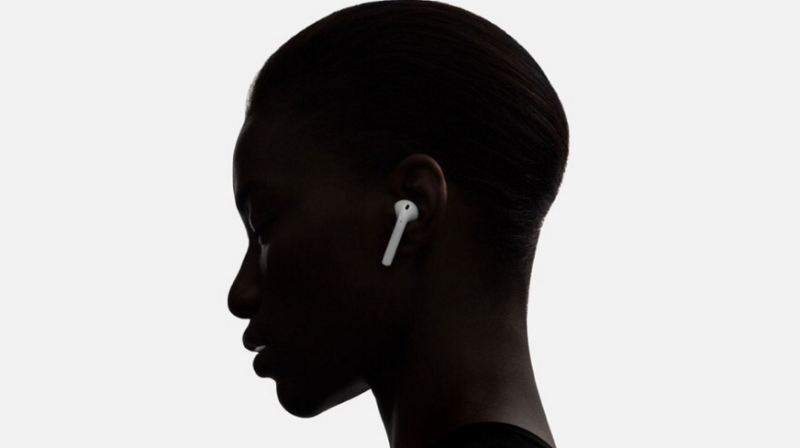earphone: (376, 154, 449, 267)
